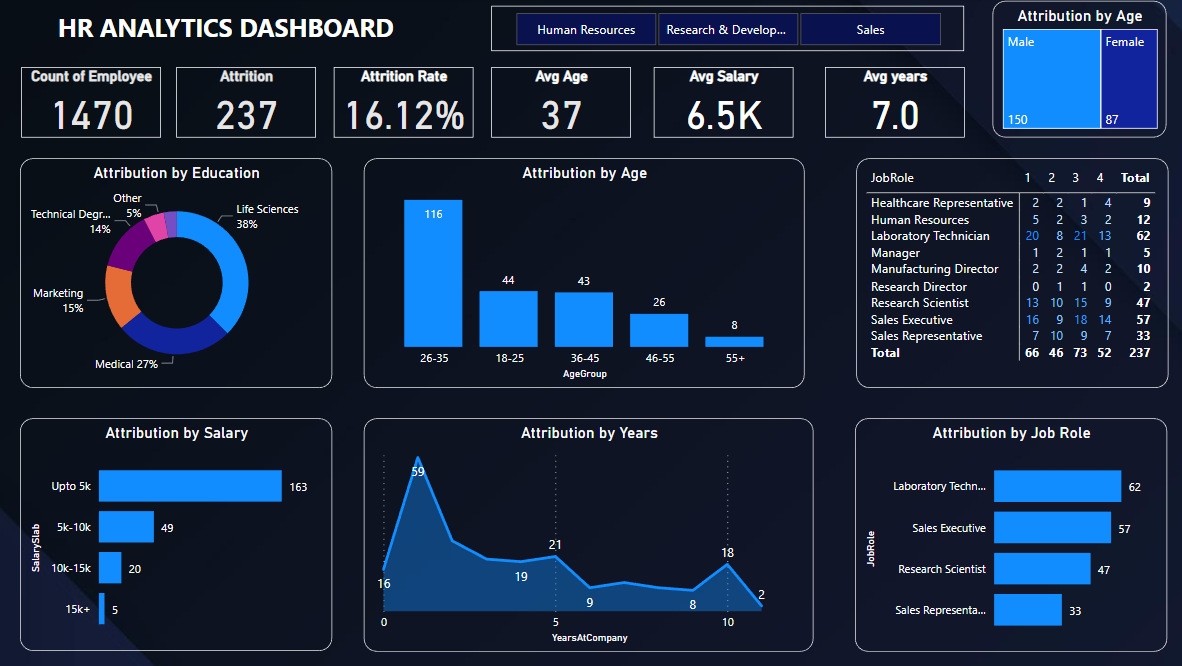

Layout of this report page (visuals, bound fields, positions):
{"tool":"powerbi","page":{"name":"Page 1","canvas":[1280,720],"ordinal":0},"visuals":[{"type":"card","title":"Count of Employee","fields":{"Values":["CountNonNull(HR_Analytics.EmpID)"]},"box":[23.1,75.7,150,76],"z":0},{"type":"card","title":"Attrition","fields":{"Values":["Sum(HR_Analytics.AttritionCount)"]},"box":[189.1,75.7,150,76],"z":1000},{"type":"card","title":"Avg Age","fields":{"Values":["Avg(HR_Analytics.Age)"]},"box":[529.1,75.7,150,76],"z":2000},{"type":"card","title":"Attrition Rate","fields":{"Values":["HR_Analytics.Attritionrate"]},"box":[359.1,75.7,150,76],"z":3000},{"type":"card","title":"Avg Salary","fields":{"Values":["Avg(HR_Analytics.MonthlyIncome)"]},"box":[703.1,75.7,150,76],"z":4000},{"type":"card","title":"Avg years","fields":{"Values":["Avg(HR_Analytics.YearsAtCompany)"]},"box":[887.1,75.7,150,76],"z":5000},{"type":"donutChart","title":"Attribution by Education","fields":{"Category":["HR_Analytics.EducationField"],"Y":["Sum(HR_Analytics.AttritionCount)"]},"box":[21.4,172.9,335.7,247.1],"z":6000},{"type":"columnChart","title":"Attribution by Age","fields":{"Category":["HR_Analytics.AgeGroup"],"Y":["Sum(HR_Analytics.AttritionCount)"]},"box":[391.4,172.9,474.3,247.1],"z":7000},{"type":"pivotTable","fields":{"Rows":["HR_Analytics.JobRole"],"Columns":["HR_Analytics.JobSatisfaction"],"Values":["Sum(HR_Analytics.AttritionCount)"]},"box":[921.4,172.9,335.7,247.1],"z":8000},{"type":"barChart","title":"Attribution by Salary","fields":{"Category":["HR_Analytics.SalarySlab"],"Y":["Sum(HR_Analytics.AttritionCount)"]},"box":[21.4,452.9,335.7,250],"z":9000},{"type":"barChart","title":"Attribution by Job Role","fields":{"Category":["HR_Analytics.JobRole"],"Y":["Sum(HR_Analytics.AttritionCount)"]},"box":[920,452.9,335.7,251.4],"z":10000},{"type":"areaChart","title":"Attribution by Years","fields":{"Category":["HR_Analytics.YearsAtCompany"],"Y":["Sum(HR_Analytics.AttritionCount)"]},"box":[391.4,452.9,484.3,251.4],"z":11000},{"type":"treemap","title":"Attribution by Age","fields":{"Group":["HR_Analytics.Gender"],"Values":["Sum(HR_Analytics.AttritionCount)"]},"box":[1068.6,4.3,187.1,147.1],"z":12000},{"type":"slicer","fields":{"Values":["HR_Analytics.Department"]},"box":[528.6,10,508.6,48.6],"z":13000},{"type":"textbox","box":[22.9,10,440,48.6],"z":13001}]}

Visuals, with their boxes in screenshot pixels (x1, y1, x2, y2), scaled from the page's 1280x720 canvas onto the 1182x666 screenshot:
"Count of Employee" card: <region>21, 70, 160, 140</region>
"Attrition" card: <region>175, 70, 313, 140</region>
"Avg Age" card: <region>489, 70, 627, 140</region>
"Attrition Rate" card: <region>332, 70, 470, 140</region>
"Avg Salary" card: <region>649, 70, 788, 140</region>
"Avg years" card: <region>819, 70, 958, 140</region>
"Attribution by Education" donutChart: <region>20, 160, 330, 388</region>
"Attribution by Age" columnChart: <region>361, 160, 799, 388</region>
pivotTable - HR_Analytics.JobRole x HR_Analytics.JobSatisfaction: <region>851, 160, 1161, 388</region>
"Attribution by Salary" barChart: <region>20, 419, 330, 650</region>
"Attribution by Job Role" barChart: <region>850, 419, 1160, 651</region>
"Attribution by Years" areaChart: <region>361, 419, 809, 651</region>
"Attribution by Age" treemap: <region>987, 4, 1160, 140</region>
slicer - HR_Analytics.Department: <region>488, 9, 958, 54</region>
textbox: <region>21, 9, 427, 54</region>
